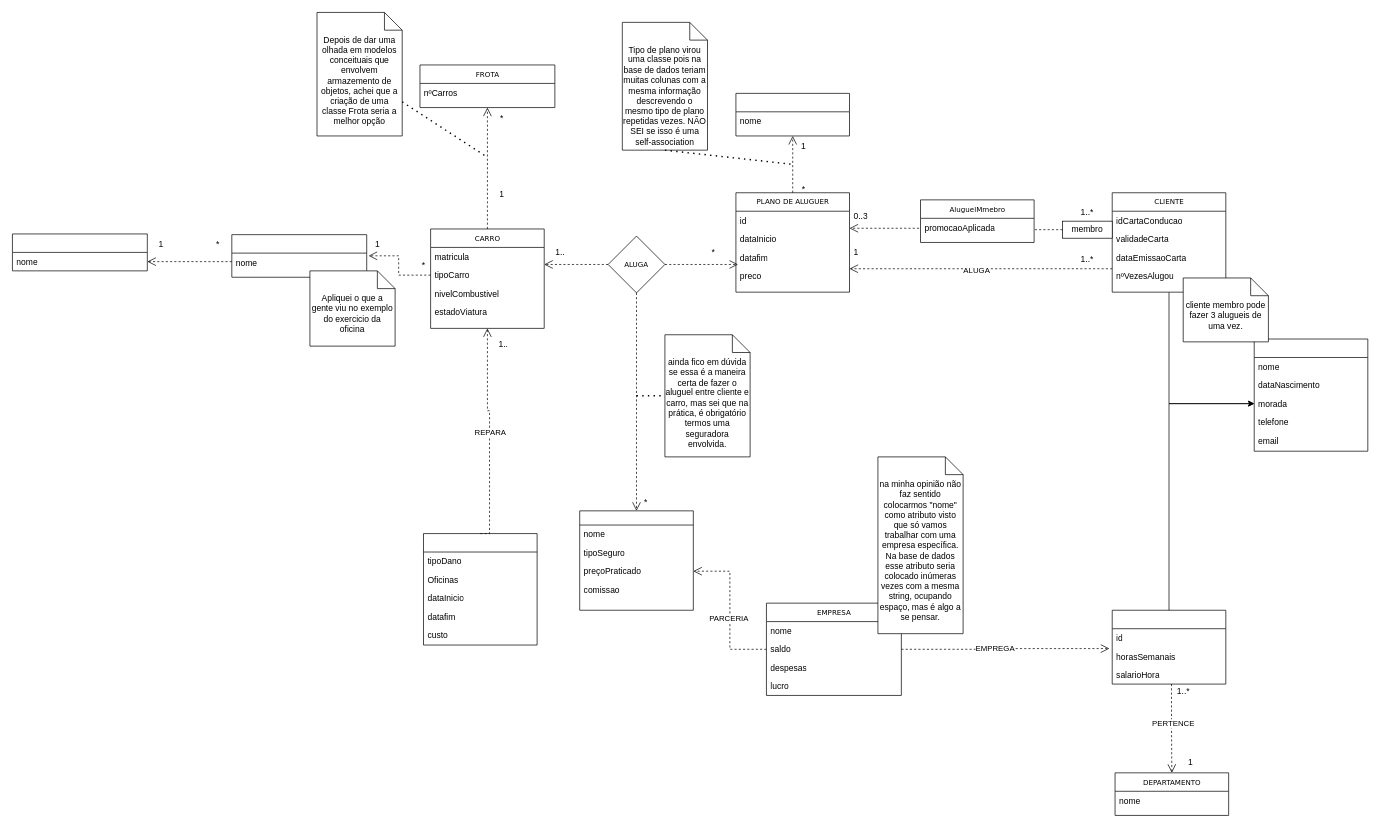
This 1380x828 diagram has some shape labels left out. The box of each missing label's shape, as (x1, y1, x2, y2) in pixels:
FUNCIONÁRIO: (1112, 610, 1226, 684)
MARCA: (12, 233, 147, 271)
MODELO: (231, 234, 367, 277)
PESSOA: (1254, 338, 1368, 451)
REPARAÇÃO: (423, 533, 537, 645)
SEGURADORA: (579, 510, 693, 610)
TIPO DE PLANO: (735, 93, 850, 136)
